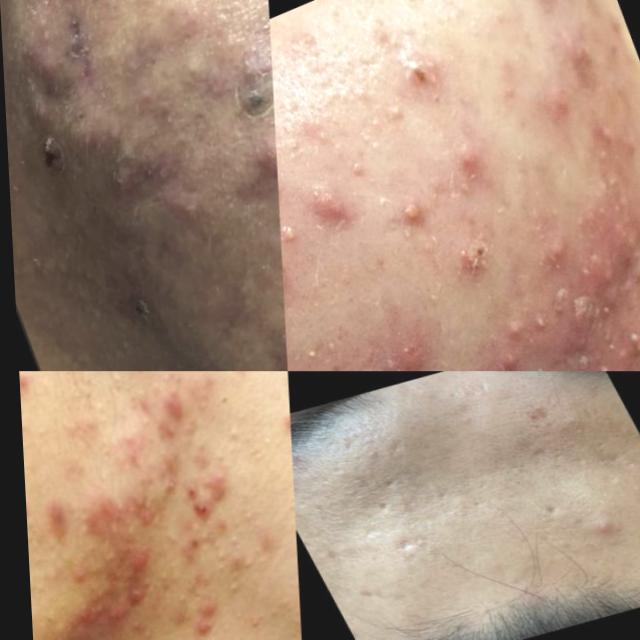8: (344, 272, 456, 372), (516, 46, 603, 166), (431, 122, 509, 210), (180, 592, 238, 640), (105, 540, 154, 590), (31, 495, 75, 545), (578, 510, 626, 548), (176, 482, 211, 534), (152, 380, 190, 422), (93, 598, 128, 638), (486, 339, 529, 371), (15, 371, 41, 414), (200, 469, 229, 502), (96, 631, 133, 640), (21, 491, 30, 527)
9: (375, 171, 447, 254), (277, 203, 317, 268), (278, 242, 305, 315)
blackheads: (490, 194, 640, 362), (293, 154, 378, 262), (432, 216, 509, 304), (550, 303, 640, 371), (228, 58, 274, 130), (365, 333, 449, 371), (33, 120, 78, 184), (114, 148, 166, 198), (521, 492, 577, 536), (26, 46, 73, 96), (514, 440, 564, 484), (383, 529, 428, 567), (359, 493, 403, 519)
pustules: (248, 120, 276, 192)
